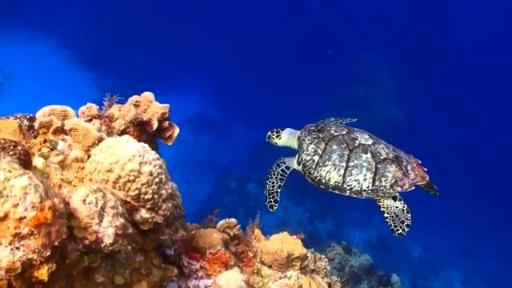Fish: (264, 118, 438, 235)
